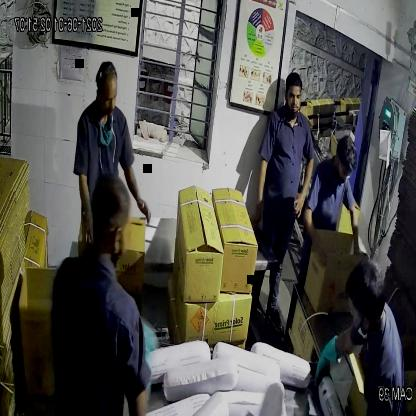no_goggles: (94, 88, 121, 106), (283, 88, 305, 106)
